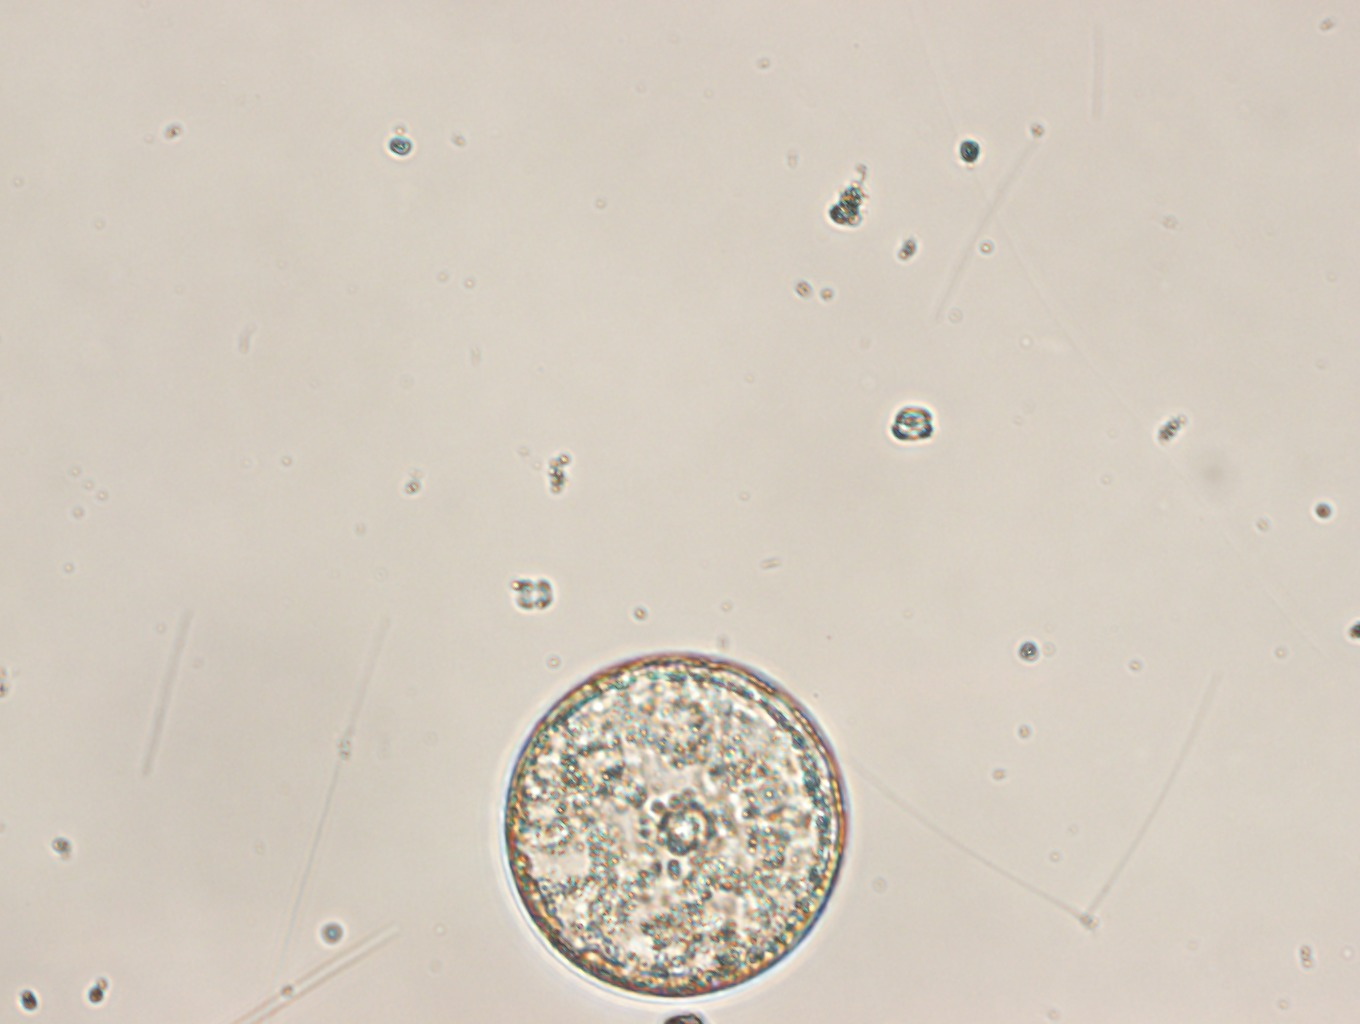coscinodiscus: (495, 641, 853, 1006)
